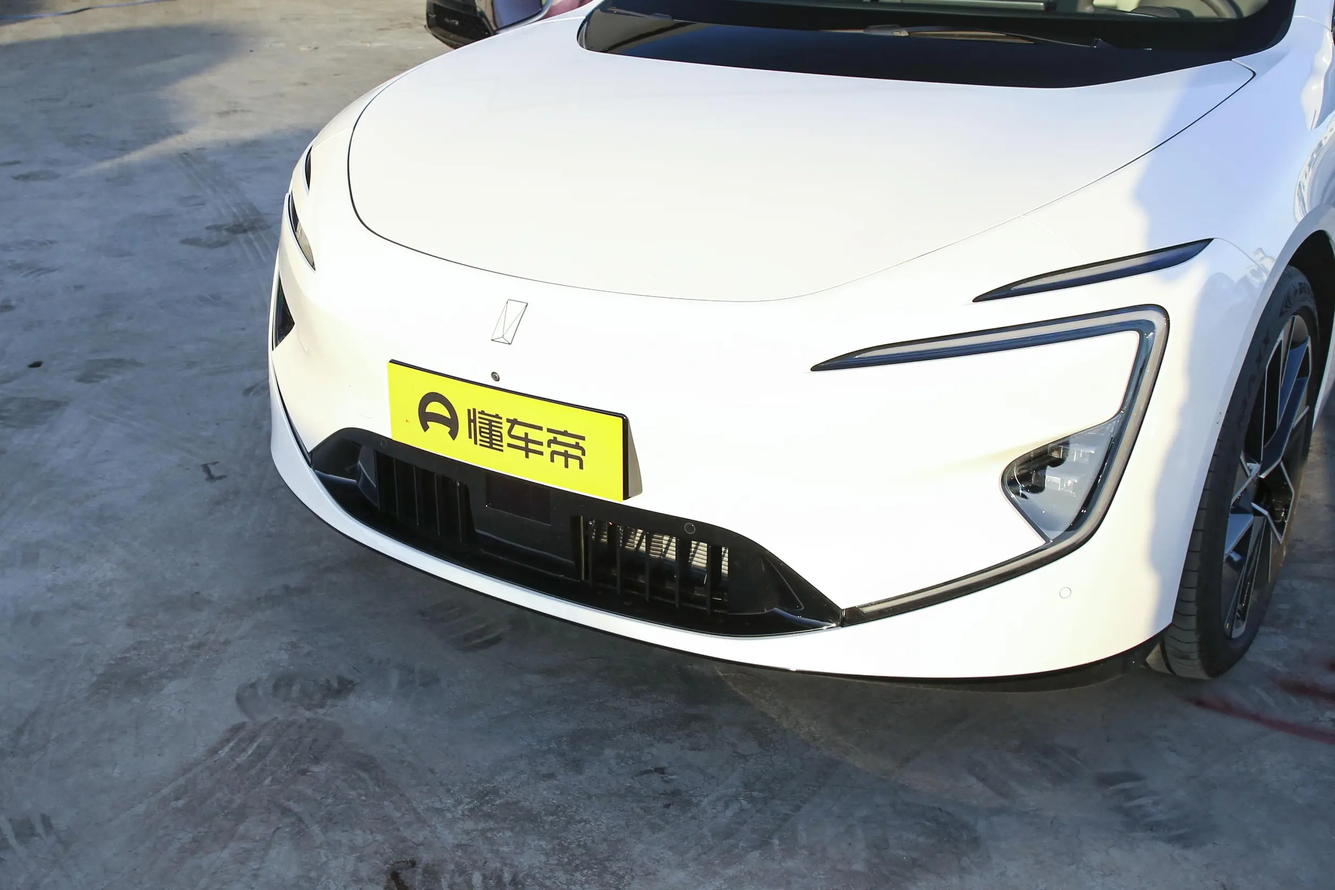AVATR: (491, 299, 528, 344)
